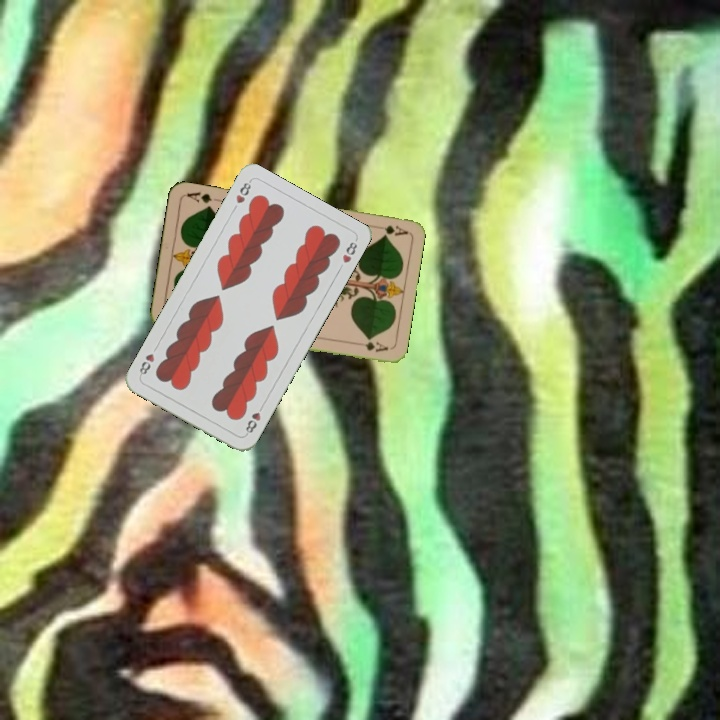GA: (380, 221, 409, 238)
H8: (241, 400, 266, 438), (232, 177, 254, 206)
